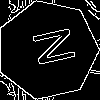N: (22, 25, 76, 70)
